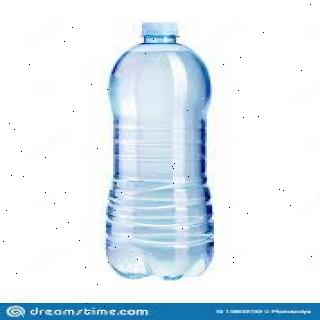Plastic-bottle: (102, 20, 226, 284)
